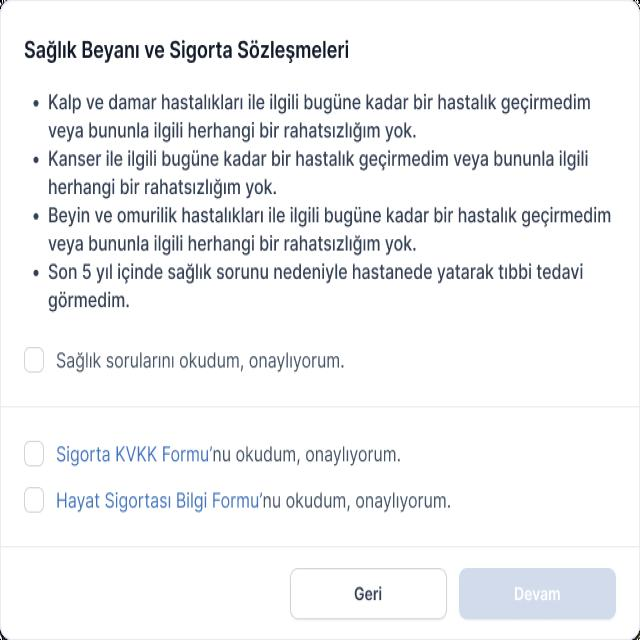QLabel: (26, 88, 595, 116), (31, 204, 616, 229), (29, 148, 594, 172), (32, 262, 585, 284), (19, 34, 360, 67), (41, 120, 419, 142), (43, 235, 420, 256), (43, 174, 282, 201), (55, 488, 261, 511), (212, 444, 402, 466), (263, 494, 452, 514), (55, 444, 211, 466), (44, 289, 134, 314), (506, 582, 570, 608), (345, 579, 389, 607)
VBtn: (456, 566, 618, 620), (291, 567, 448, 620)
VCard: (0, 0, 640, 640)
VCheckbox: (20, 344, 349, 374), (18, 439, 50, 470), (19, 485, 48, 517)
VDivider: (1, 402, 640, 411), (1, 543, 640, 550)
